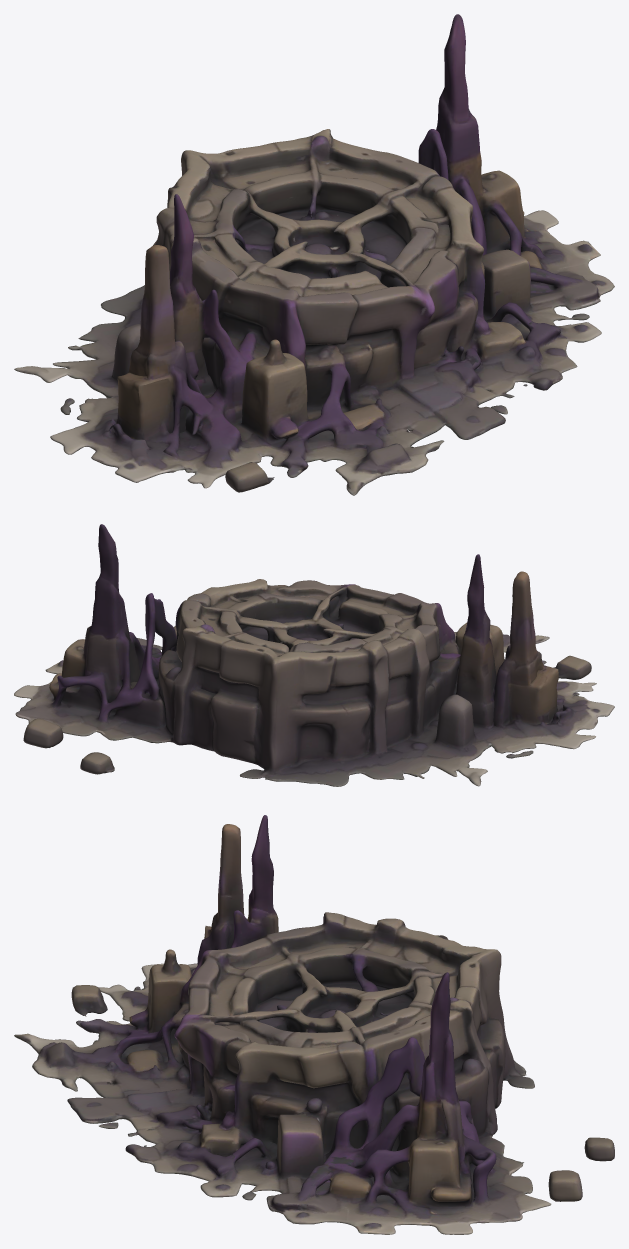
File: SM_Environment_CrystalRuinPlatform_01.fbx
The picture shows the model from 3 angles, top to bottom: view 1: azimuth 30°, elevation 25°; view 2: azimuth 150°, elevation 25°; view 3: azimuth 270°, elevation 25°; orthographic projection. The views are drawn at different scales.
Parts seen in each view (by area): view 1: SM_Environment_CrystalRuinPlatform_01; view 2: SM_Environment_CrystalRuinPlatform_01; view 3: SM_Environment_CrystalRuinPlatform_01.
Boxes of the visible parts, left/top/right/bottom form: SM_Environment_CrystalRuinPlatform_01: left=14, top=14, right=614, bottom=495; SM_Environment_CrystalRuinPlatform_01: left=14, top=524, right=614, bottom=786; SM_Environment_CrystalRuinPlatform_01: left=14, top=815, right=614, bottom=1234.
Size of the model in its own units: 0.9979 by 0.3644 by 0.9101.
1 material, 1 textured.
